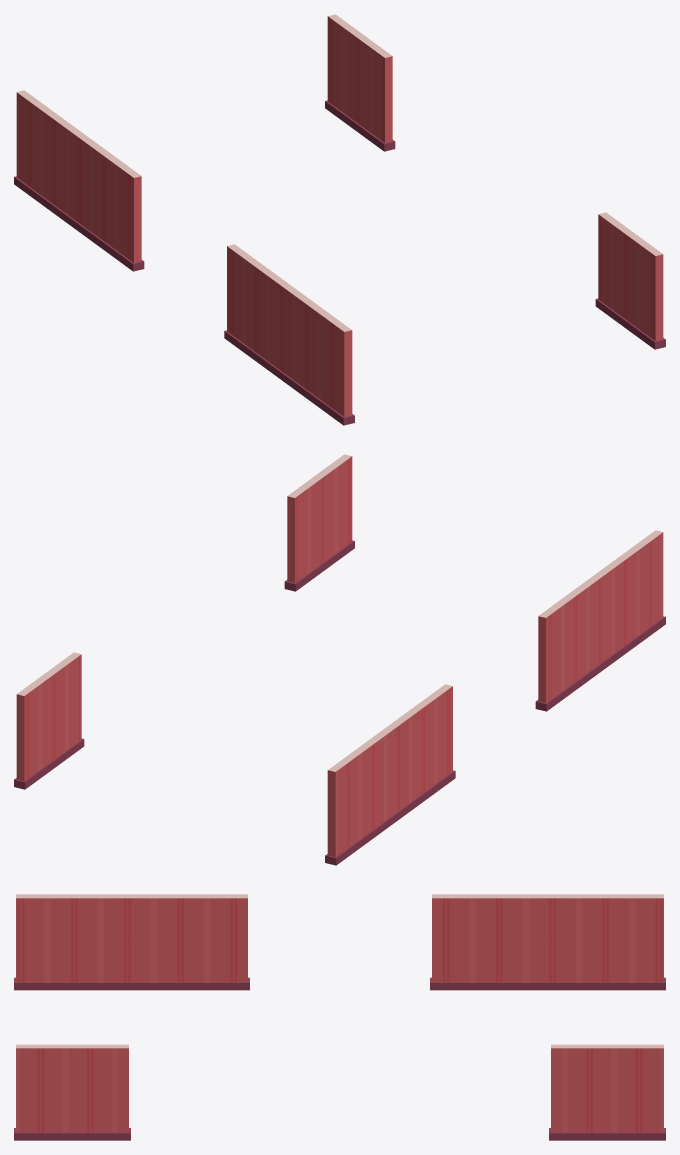
File: Map_bs_Wall_geo.fbx
3 renders of one model, top to bottom at view 1: azimuth 30°, elevation 25°; view 2: azimuth 150°, elevation 25°; view 3: azimuth 270°, elevation 25°, orthographic.
Parts seen in each view (by area): view 1: Map_bs_Wall_geo; view 2: Map_bs_Wall_geo; view 3: Map_bs_Wall_geo.
Part boxes in pixels (bbox=[...]): Map_bs_Wall_geo: bbox=[14, 14, 665, 425]; Map_bs_Wall_geo: bbox=[14, 454, 665, 865]; Map_bs_Wall_geo: bbox=[14, 894, 665, 1140].
Size of the model in its own units: 7.43 by 13.16 by 2.04.
